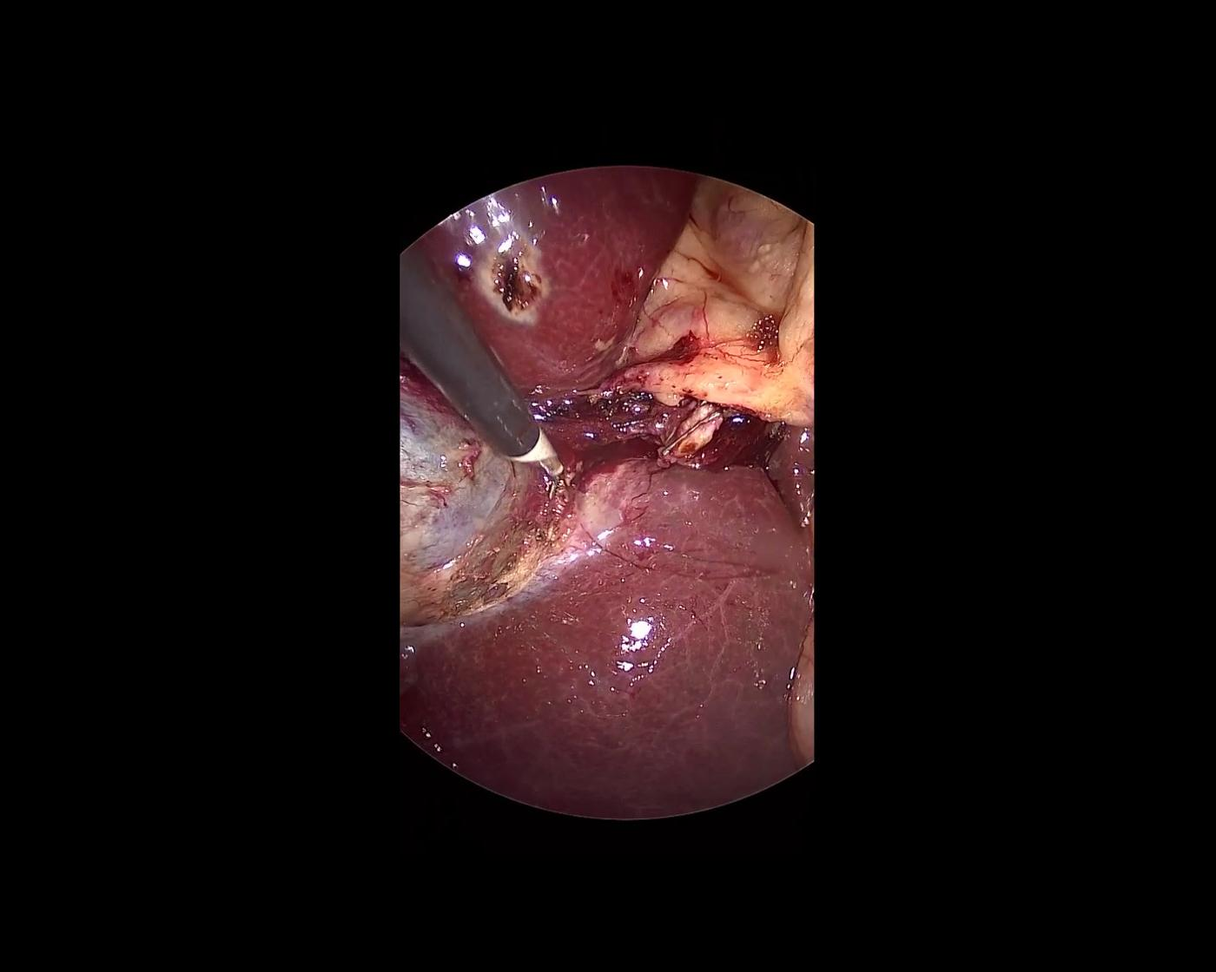Cautery: (357, 238, 574, 523)
Gallbladder: (399, 351, 550, 625)
Liver: (398, 460, 816, 821), (416, 116, 757, 421)
